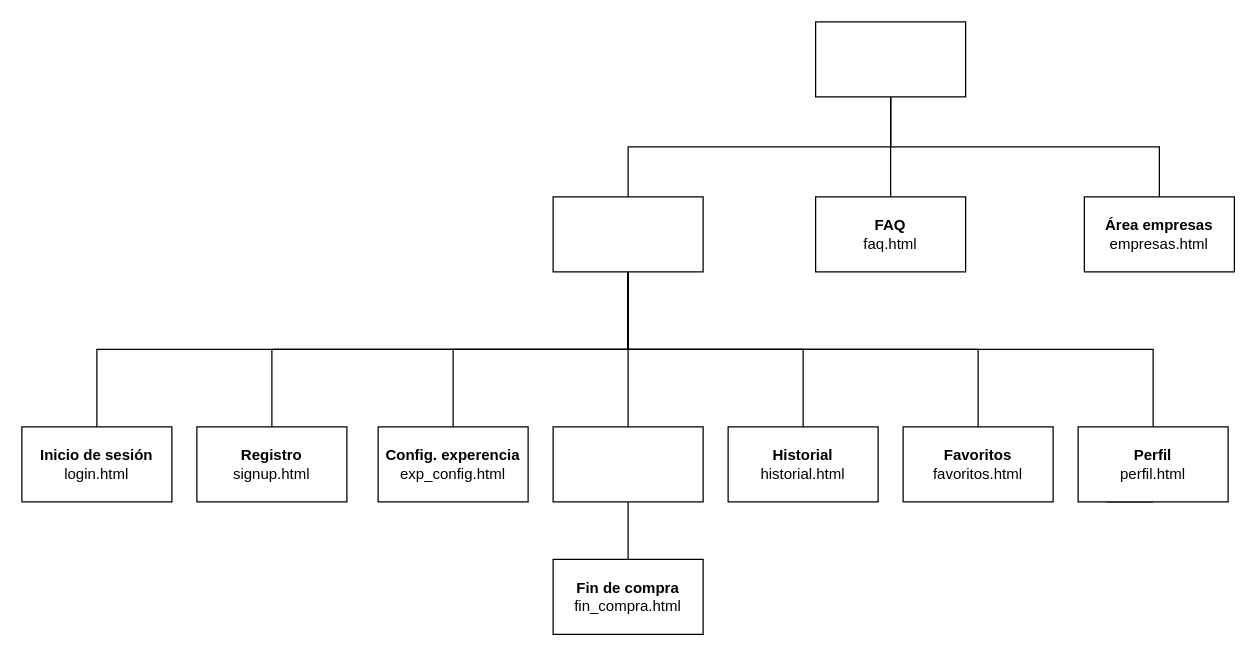
This 1256x656 diagram has some shape labels left out. The centre of each missing label's shape, as x and y in pixels:
"Carrito carrito.html" goes at point (627, 464).
"Landing page index.html" goes at point (890, 59).
"Área clientes clientes.html" goes at point (627, 234).
